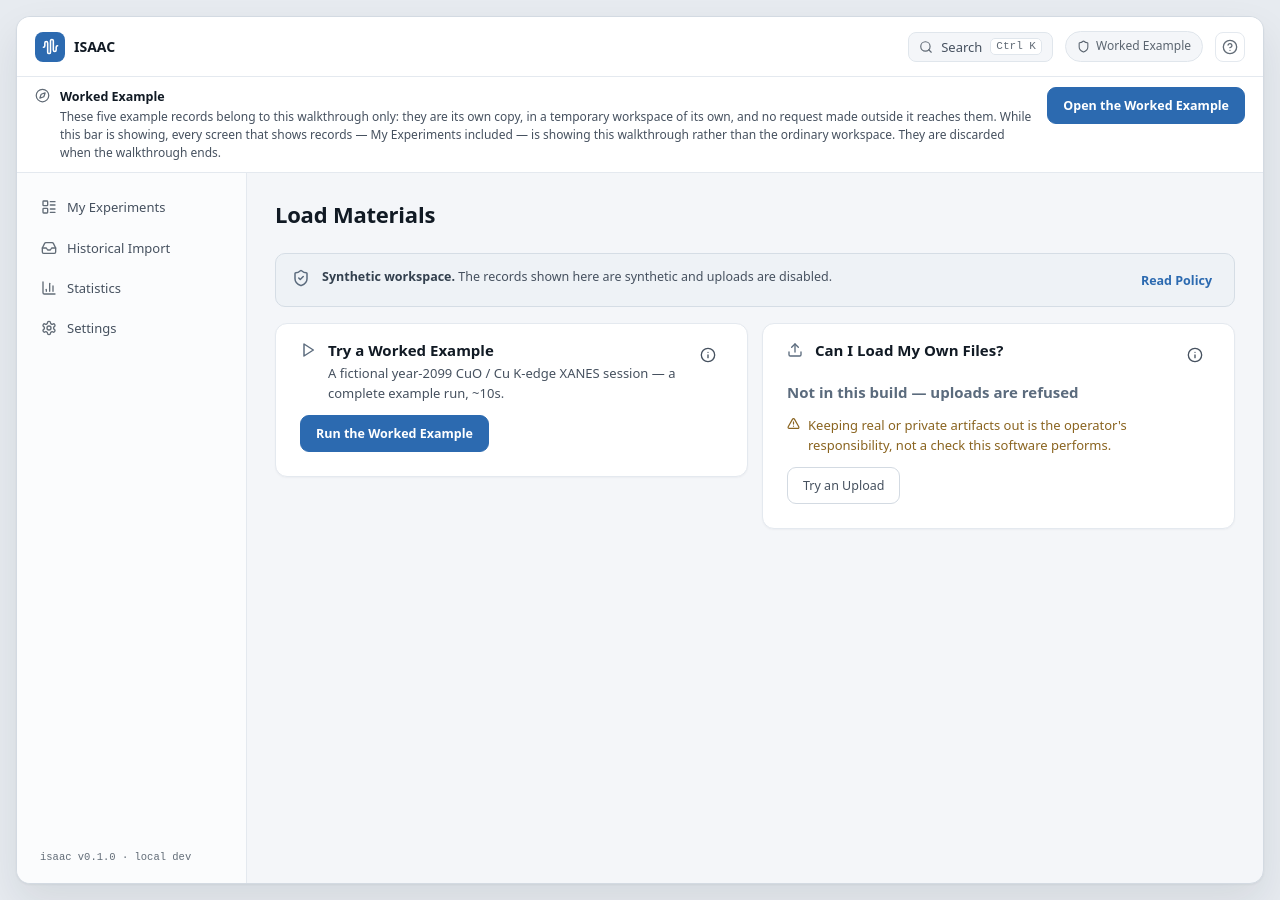
Test: S2 · demo run — 409 demo_target_drifted is a refusal, not a failure › renders the refusal and never the backend-down state
Click the button "Run the Worked Example". click: (394, 434)
box: [300, 415, 489, 452]
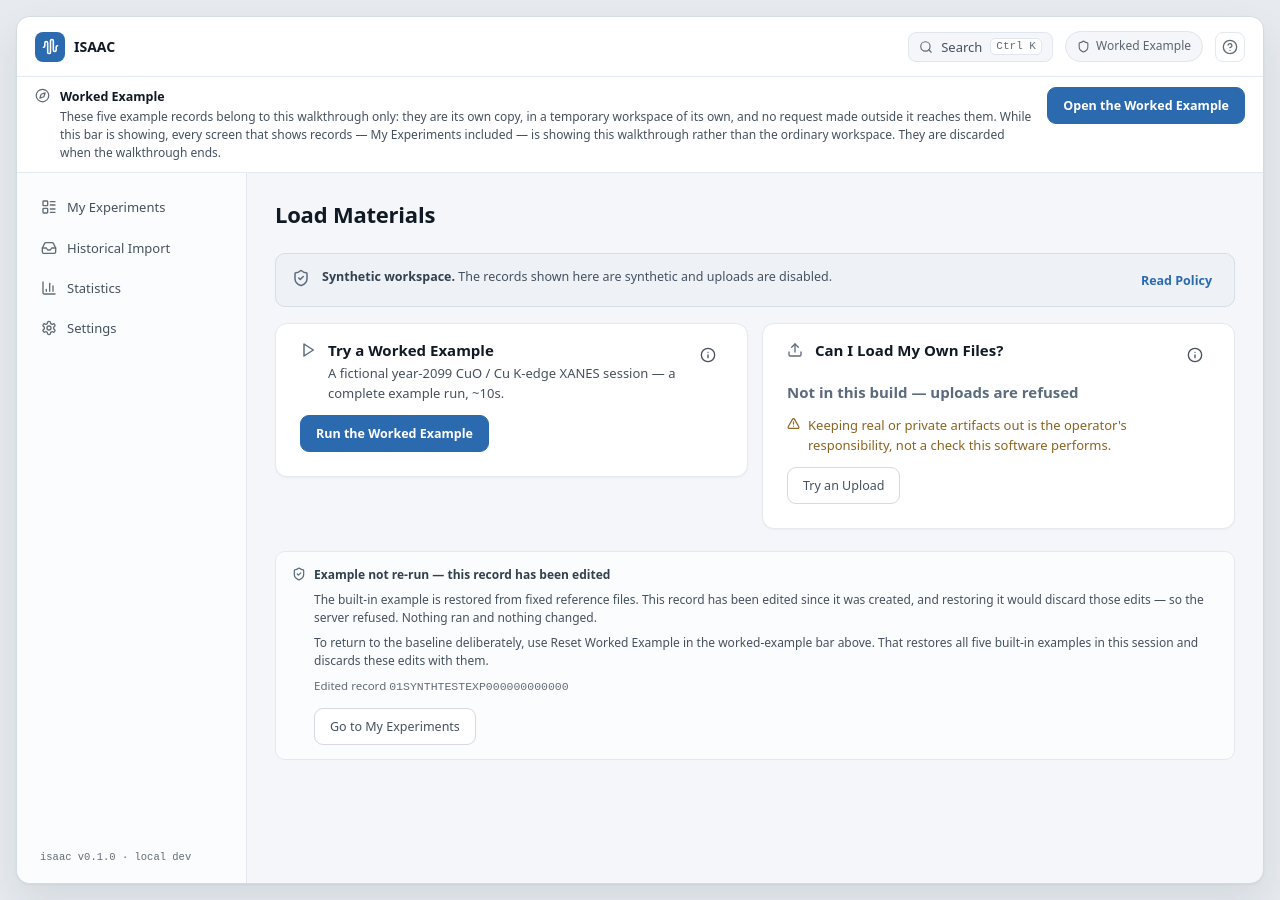
Expected: the text "Example not re-run — this record has been edited" is shown, [314, 566, 610, 583]
